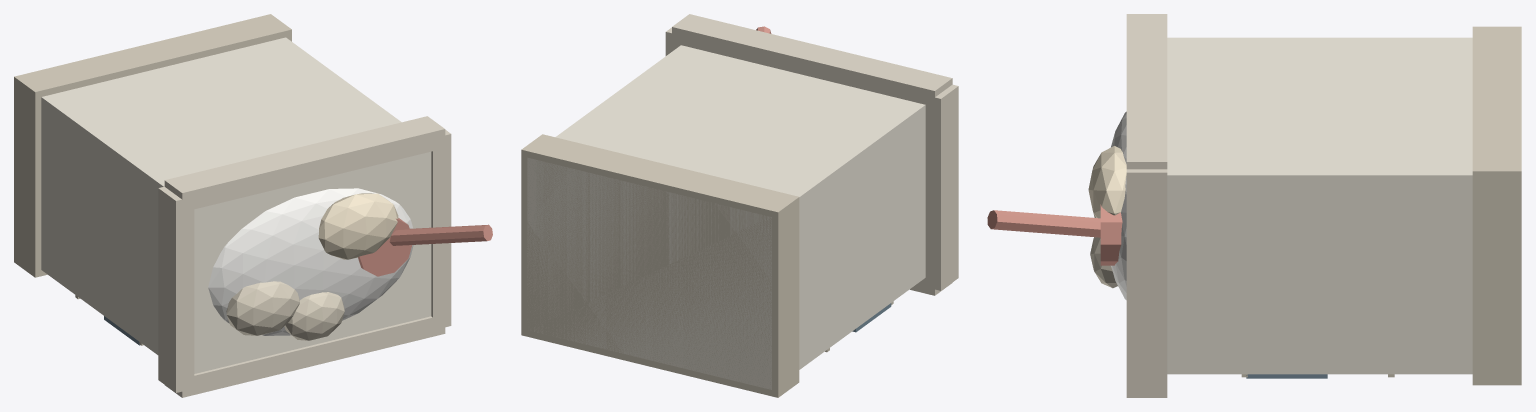
Rendered from 16_reef_salt_bag.glb.
3 renders of one model, left to right at view 1: azimuth 30°, elevation 25°; view 2: azimuth 150°, elevation 25°; view 3: azimuth 270°, elevation 25°, orthographic. The views are drawn at different scales.
Parts seen in each view (by area): view 1: salt_sack_0001, salt_sack_base_0002, salt_heap_0014, salt_sack_cuff_0011, salt_sack_cuff_0012, salt_sack_cuff_0010, salt_crust_b_0016, salt_sack_cuff_0013, salt_crust_a_0015, salt_crust_c_0017, salt_scoop_handle_0018, salt_scoop_cup_0019; view 2: salt_sack_0001, salt_sack_base_0002, salt_sack_cuff_0011, salt_sack_cuff_0012; view 3: salt_sack_0001, salt_sack_base_0002, salt_sack_cuff_0013, salt_sack_cuff_0011, salt_scoop_handle_0018, salt_crust_b_0016, salt_heap_0014, salt_scoop_cup_0019, salt_crust_c_0017.
Boxes of the visible parts, x1,y1,x2,y2 form: salt_sack_0001: [41, 37, 431, 373]; salt_sack_base_0002: [14, 14, 291, 277]; salt_heap_0014: [208, 188, 413, 335]; salt_sack_cuff_0011: [164, 116, 445, 212]; salt_sack_cuff_0012: [158, 186, 194, 392]; salt_sack_cuff_0010: [165, 316, 445, 397]; salt_crust_b_0016: [318, 193, 398, 259]; salt_sack_cuff_0013: [431, 130, 451, 330]; salt_crust_a_0015: [226, 281, 299, 335]; salt_crust_c_0017: [284, 292, 344, 340]; salt_scoop_handle_0018: [389, 224, 492, 245]; salt_scoop_cup_0019: [358, 218, 412, 276]; salt_sack_0001: [527, 45, 925, 389]; salt_sack_base_0002: [521, 134, 799, 397]; salt_sack_cuff_0011: [672, 14, 952, 108]; salt_sack_cuff_0012: [922, 84, 958, 290]; salt_sack_0001: [1167, 37, 1472, 374]; salt_sack_base_0002: [1472, 26, 1521, 385]; salt_sack_cuff_0013: [1126, 169, 1167, 393]; salt_sack_cuff_0011: [1126, 14, 1167, 169]; salt_scoop_handle_0018: [987, 210, 1100, 237]; salt_crust_b_0016: [1088, 146, 1126, 218]; salt_heap_0014: [1111, 111, 1126, 300]; salt_scoop_cup_0019: [1100, 204, 1122, 265]; salt_crust_c_0017: [1090, 237, 1117, 288].
Size of the model in its own units: 0.45 by 0.32 by 0.6561.
